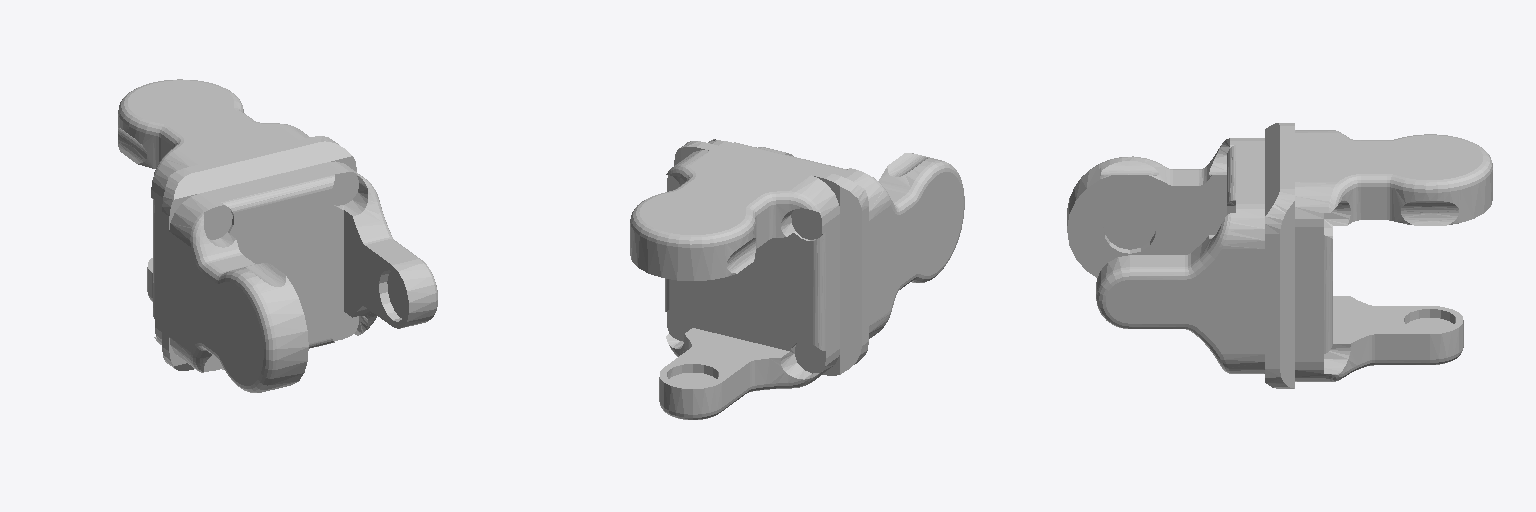
File: tesollo_left_ll_dg_1_2_visuals_ll_dg_1_2_mesh.obj
3 renders of one model, left to right at view 1: azimuth 30°, elevation 25°; view 2: azimuth 150°, elevation 25°; view 3: azimuth 270°, elevation 25°, orthographic.
Size of the model in its own units: 0.0224 by 0.0224 by 0.044.